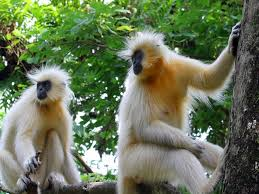langur: (110, 23, 247, 194), (1, 64, 80, 191)
